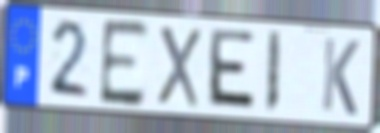2: (46, 17, 93, 105)
E: (97, 17, 151, 110), (204, 26, 258, 114)
I: (262, 29, 283, 117)
K: (319, 34, 362, 119)
X: (155, 23, 203, 111)
